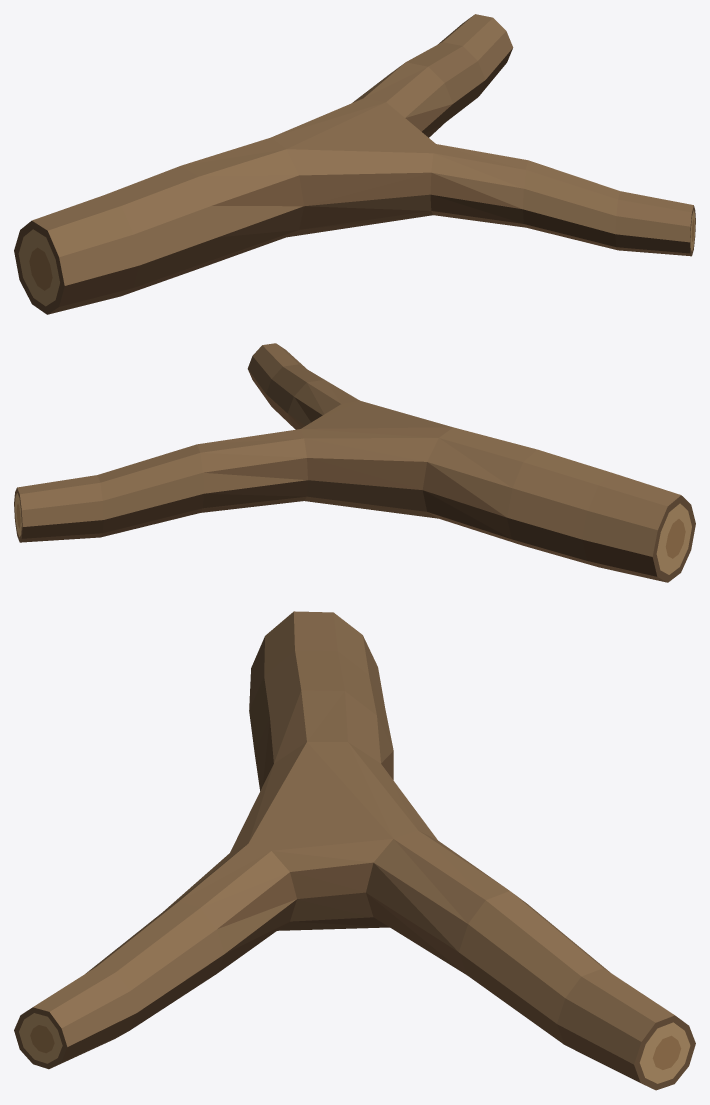
3 renders of one model, top to bottom at view 1: azimuth 30°, elevation 25°; view 2: azimuth 150°, elevation 25°; view 3: azimuth 270°, elevation 25°, orthographic. The views are drawn at different scales.
Parts seen in each view (by area): view 1: ContinuousYForkedWood; view 2: ContinuousYForkedWood; view 3: ContinuousYForkedWood.
Part boxes in pixels (x1,y1,x2,y2): ContinuousYForkedWood: (14,14,695,314); ContinuousYForkedWood: (14,343,695,582); ContinuousYForkedWood: (14,611,695,1090).
Size of the model in its own units: 3.31 by 0.543 by 2.52.
